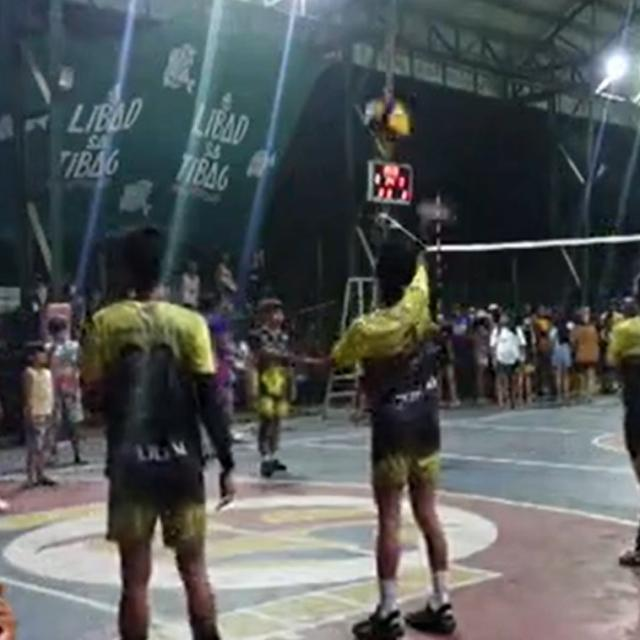volleyball: (363, 95, 408, 144)
